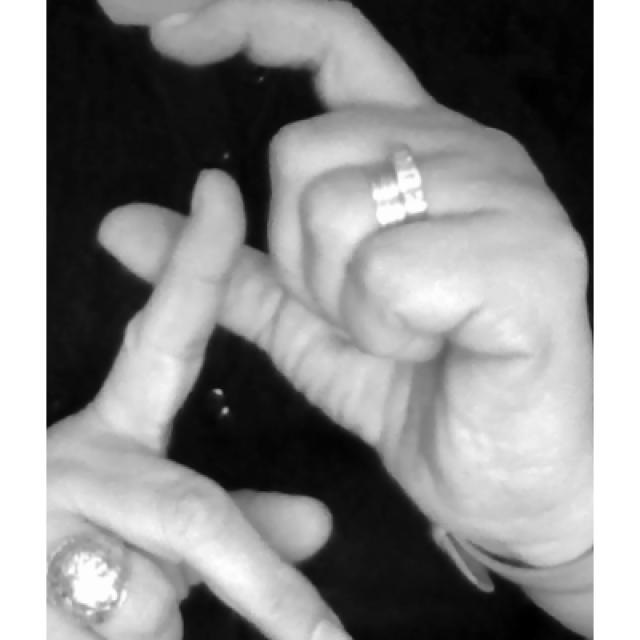C_: (47, 0, 590, 640)
